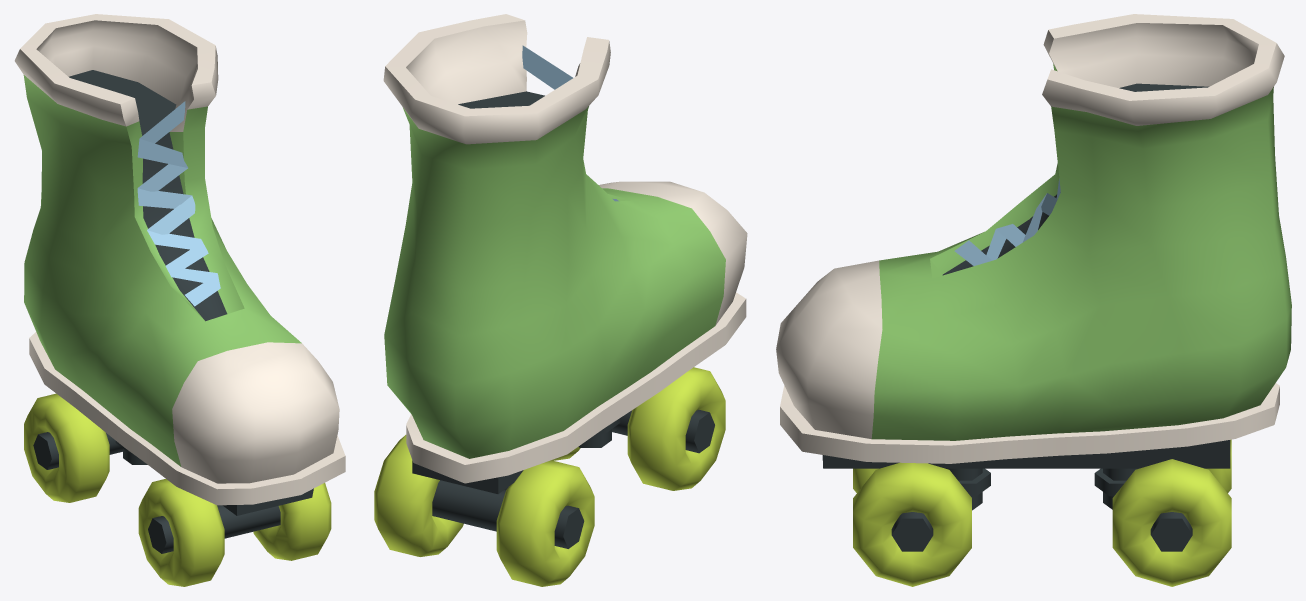
Rendered from RollerSkate_01.fbx.
3 views of the same model, side by side, from view 1: azimuth 30°, elevation 25°; view 2: azimuth 150°, elevation 25°; view 3: azimuth 270°, elevation 25° (orthographic). The views are drawn at different scales.
Parts seen in each view (by area): view 1: RollerSkate_01, RollerSkate_01_Front_Right, RollerSkate_01_Back_Right, RollerSkate_01_Front_Left; view 2: RollerSkate_01, RollerSkate_01_Back_Right, RollerSkate_01_Front_Right, RollerSkate_01_Back_Left; view 3: RollerSkate_01, RollerSkate_01_Back_Left, RollerSkate_01_Front_Left.
Part boxes in pixels (bbox=[...]): RollerSkate_01: bbox=[14, 14, 345, 553]; RollerSkate_01_Front_Right: bbox=[138, 479, 224, 586]; RollerSkate_01_Back_Right: bbox=[24, 393, 109, 502]; RollerSkate_01_Front_Left: bbox=[253, 483, 331, 560]; RollerSkate_01: bbox=[383, 14, 747, 548]; RollerSkate_01_Back_Right: bbox=[496, 460, 594, 586]; RollerSkate_01_Front_Right: bbox=[627, 367, 725, 490]; RollerSkate_01_Back_Left: bbox=[374, 435, 463, 556]; RollerSkate_01: bbox=[776, 14, 1291, 551]; RollerSkate_01_Back_Left: bbox=[1112, 459, 1231, 586]; RollerSkate_01_Front_Left: bbox=[853, 462, 971, 586].
Bounding box in the file's own units: 0.101 × 0.2467 × 0.2343.
